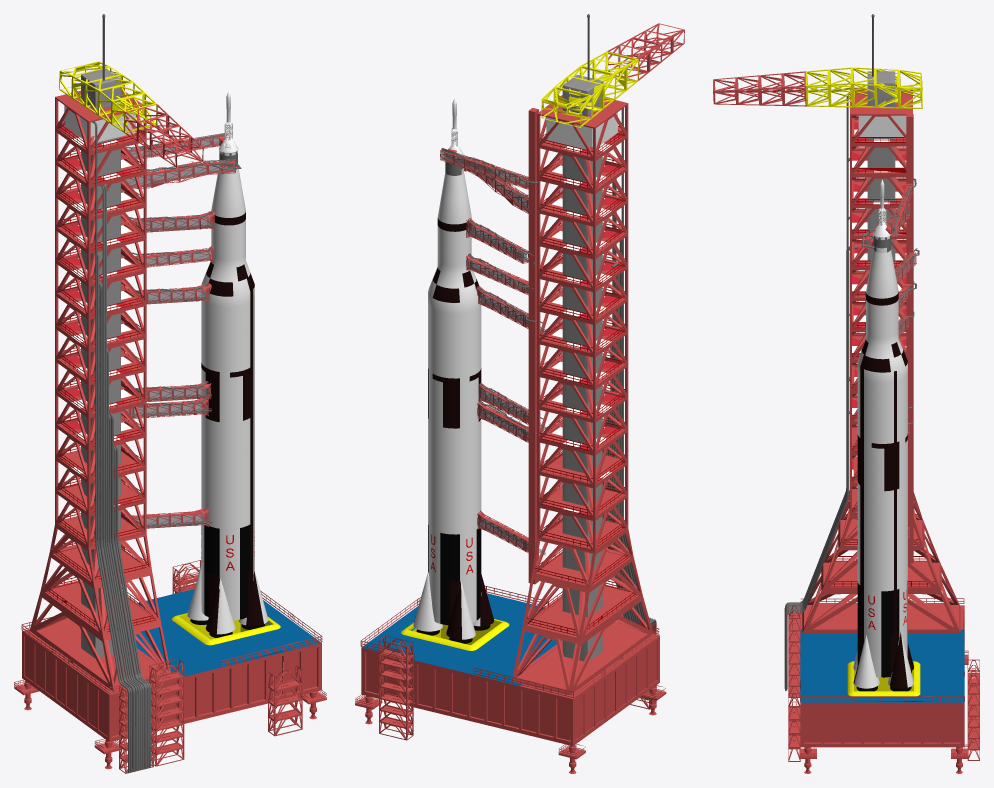
3 views of the same model, side by side, from view 1: azimuth 30°, elevation 25°; view 2: azimuth 150°, elevation 25°; view 3: azimuth 270°, elevation 25° (orthographic). The views are drawn at different scales.
Parts seen in each view (by area): view 1: Polygonal_Geometry; view 2: Polygonal_Geometry; view 3: Polygonal_Geometry.
Boxes of the visible parts, x1,y1,x2,y2 form: Polygonal_Geometry: (14,14,326,773); Polygonal_Geometry: (355,14,684,773); Polygonal_Geometry: (713,14,979,773).
Size of the model in its own units: 19.16 by 59.27 by 21.14.
